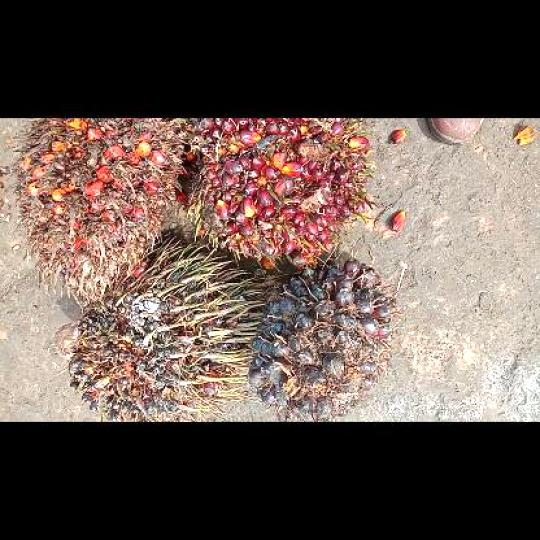masak: (187, 118, 371, 264)
terlalu masak: (14, 118, 183, 305)
